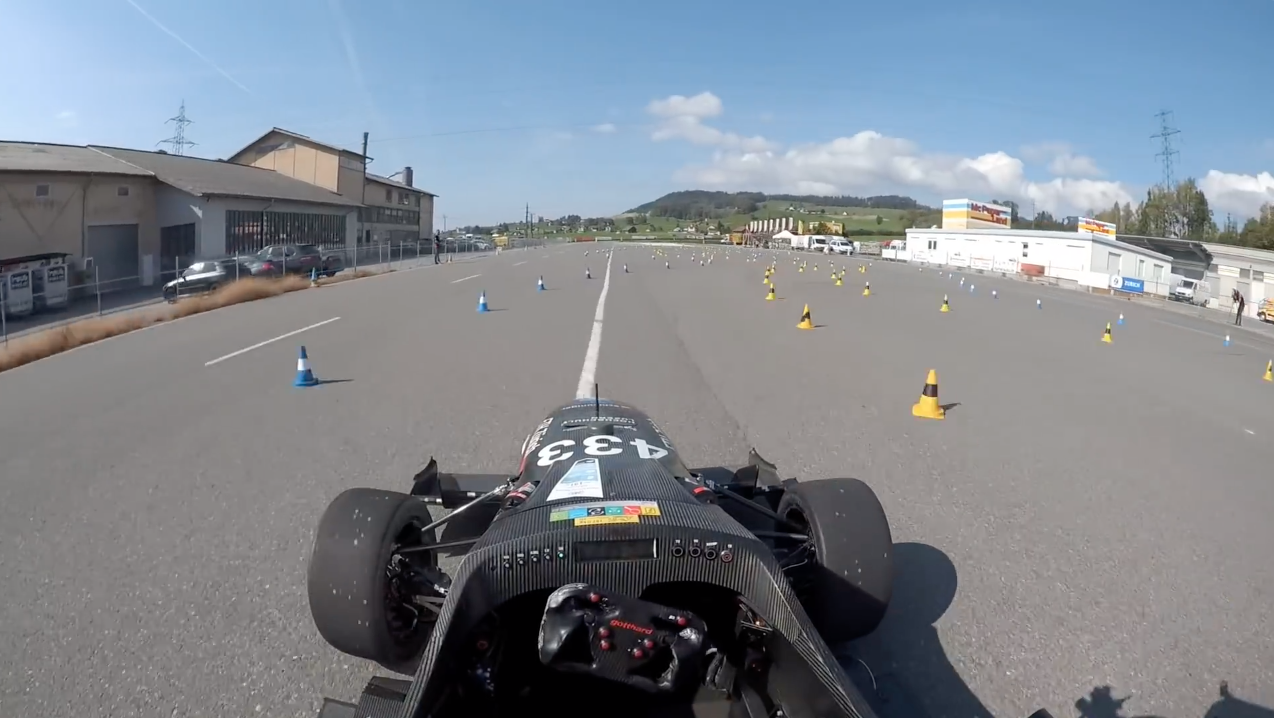lcone: (287, 341, 325, 393), (473, 286, 494, 316), (533, 270, 550, 295)
rcone: (911, 366, 953, 422), (793, 301, 816, 336), (764, 280, 782, 305)
